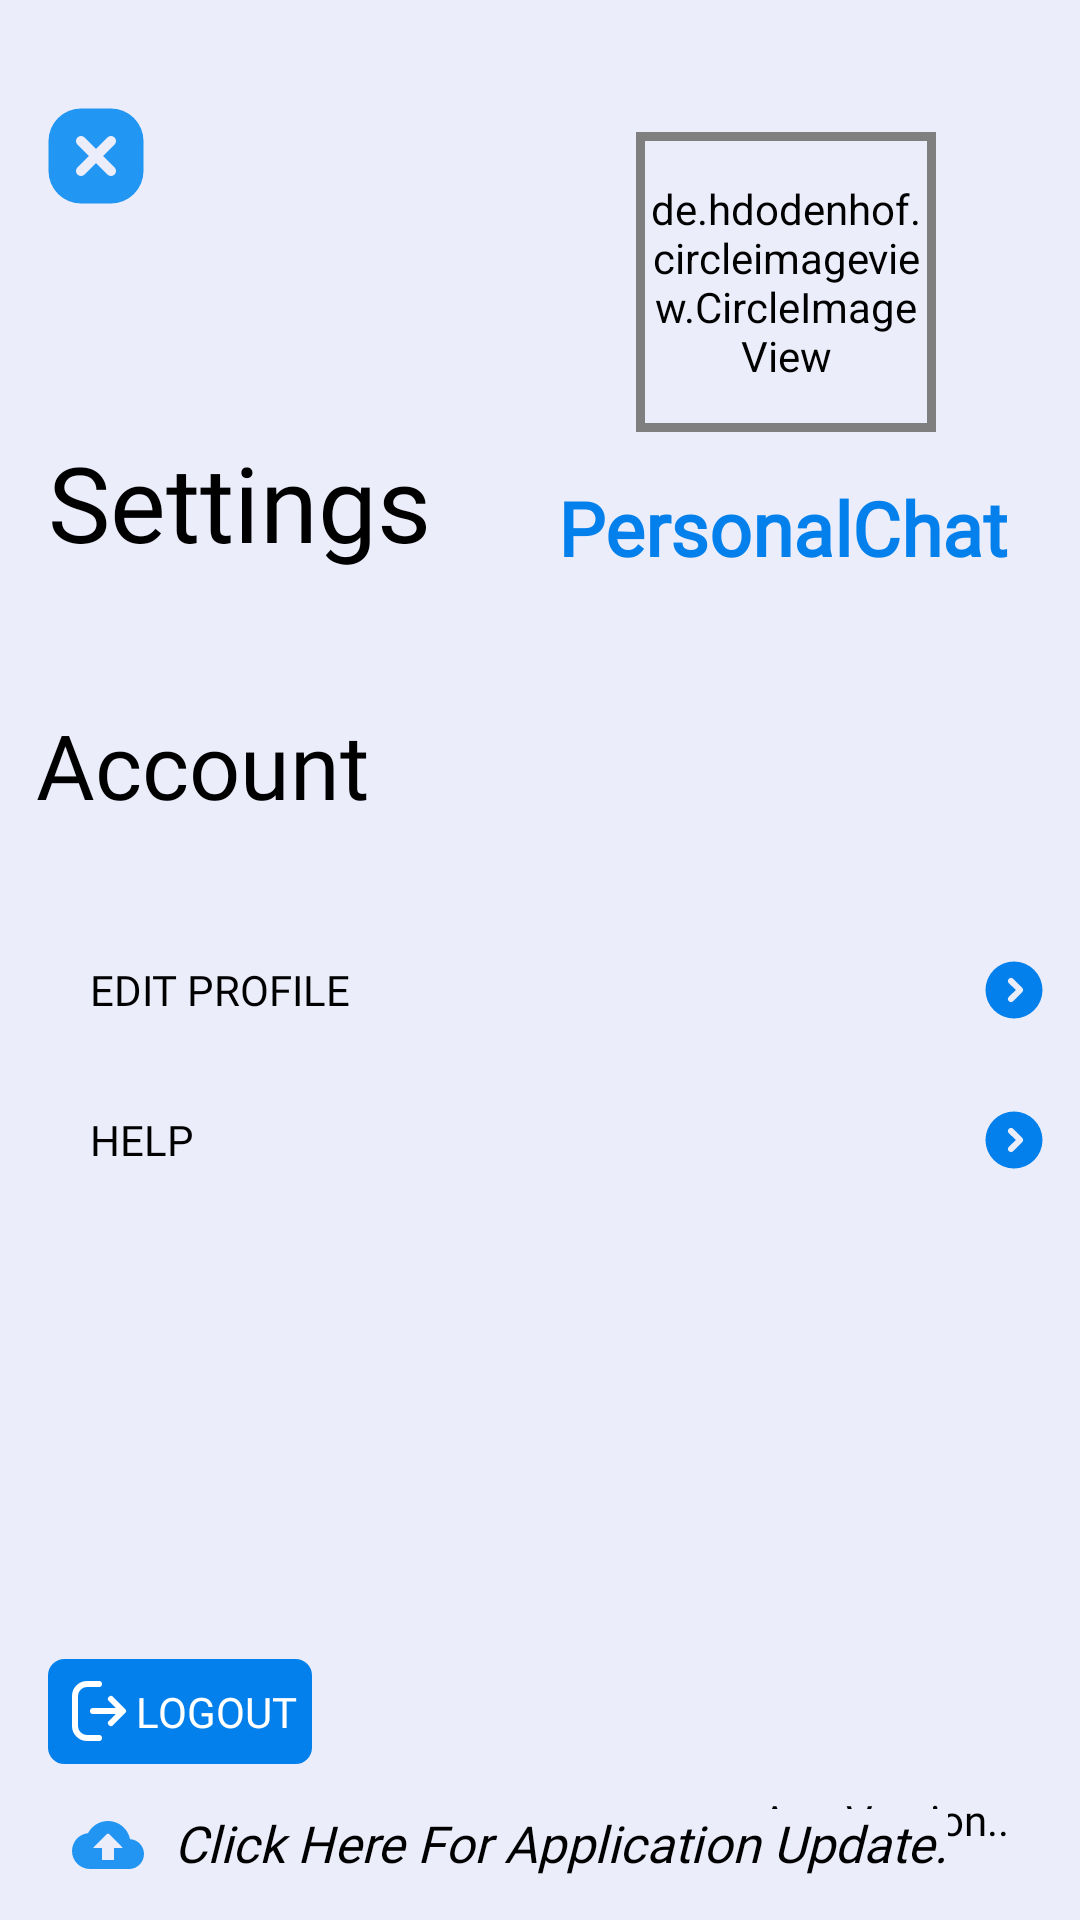

Locate icon controls on the screen. Image size 1080x1920, boxes as [x1, y1, x2, y2].
cancel: [48, 108, 144, 204]
